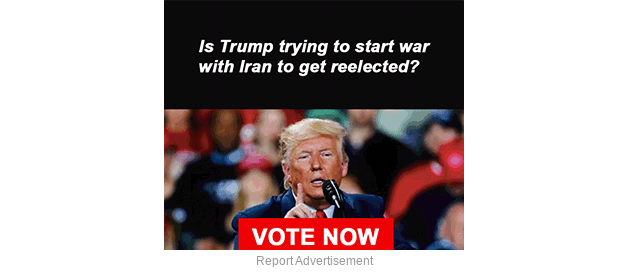fake_button: (232, 210, 400, 252)
